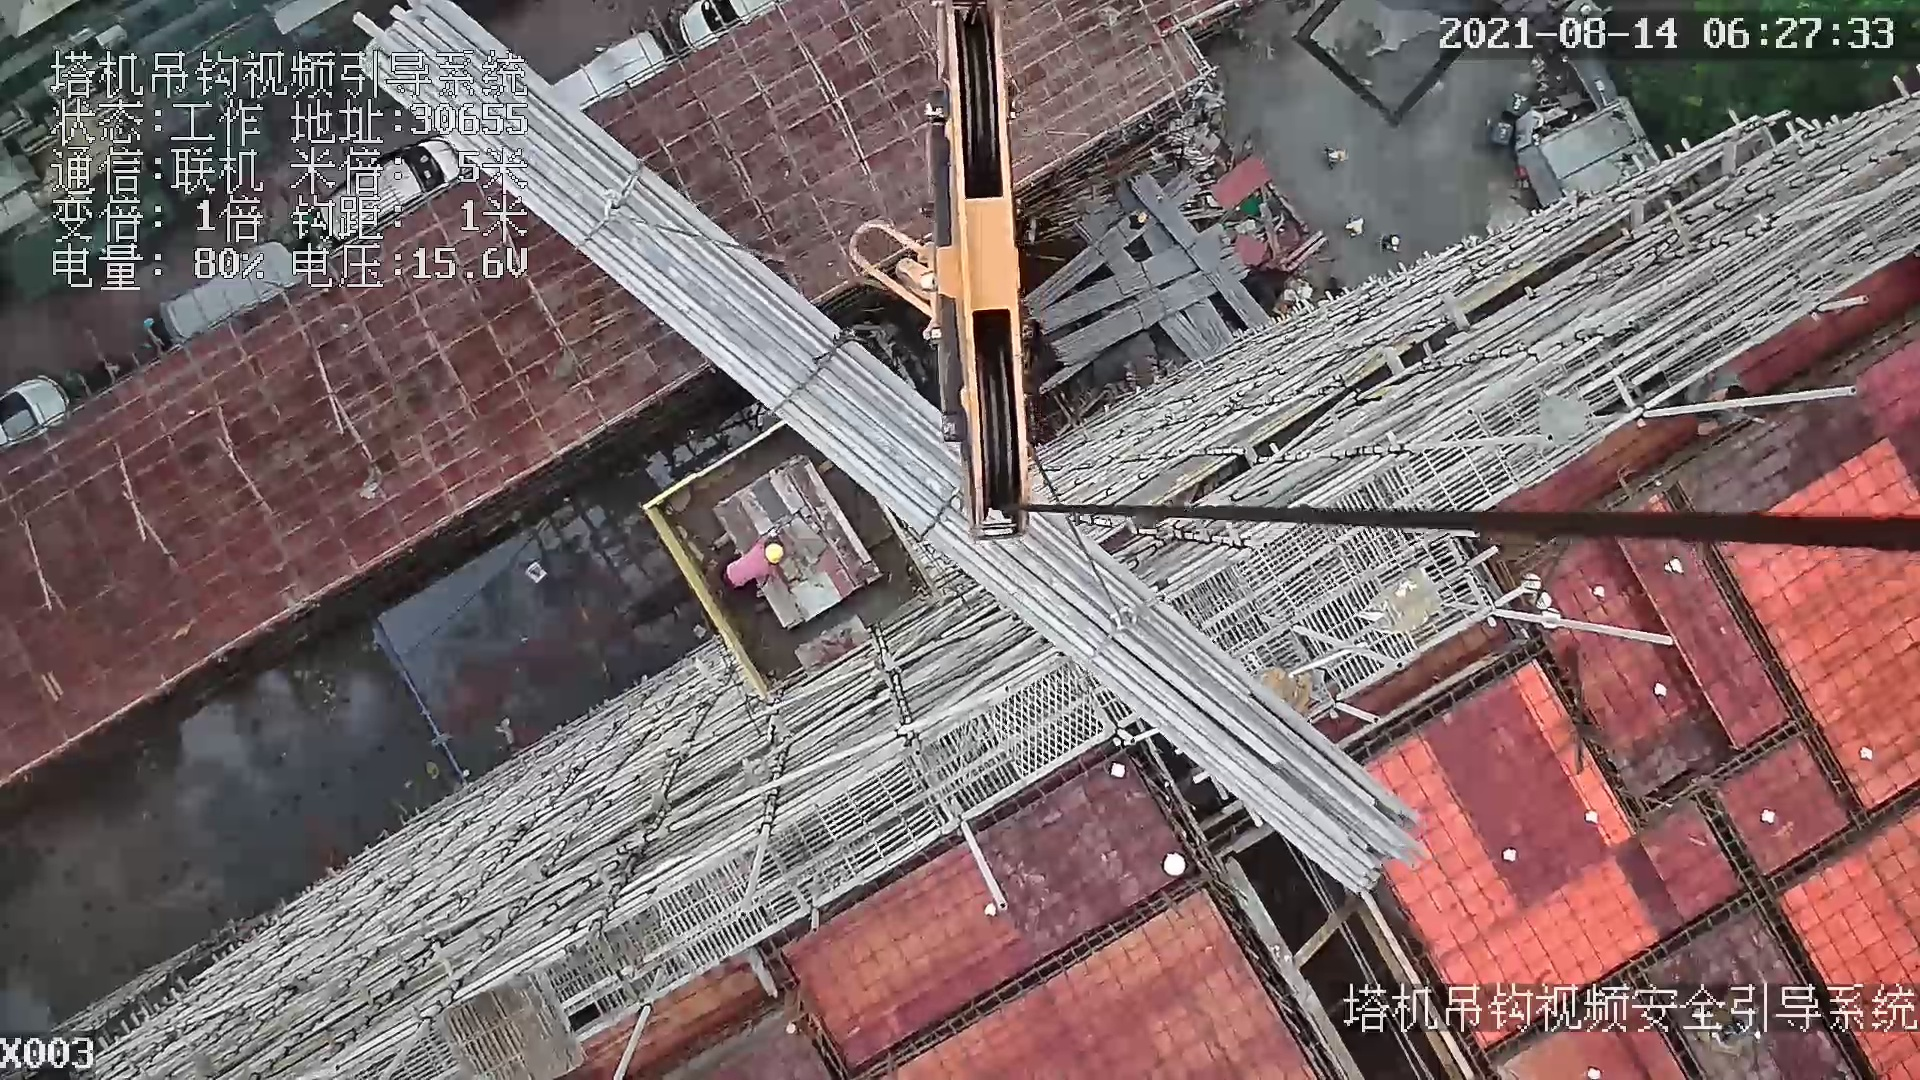helmet: (761, 539, 800, 574)
hook: (923, 1, 1037, 544)
person: (1686, 365, 1754, 433), (724, 534, 786, 590)
